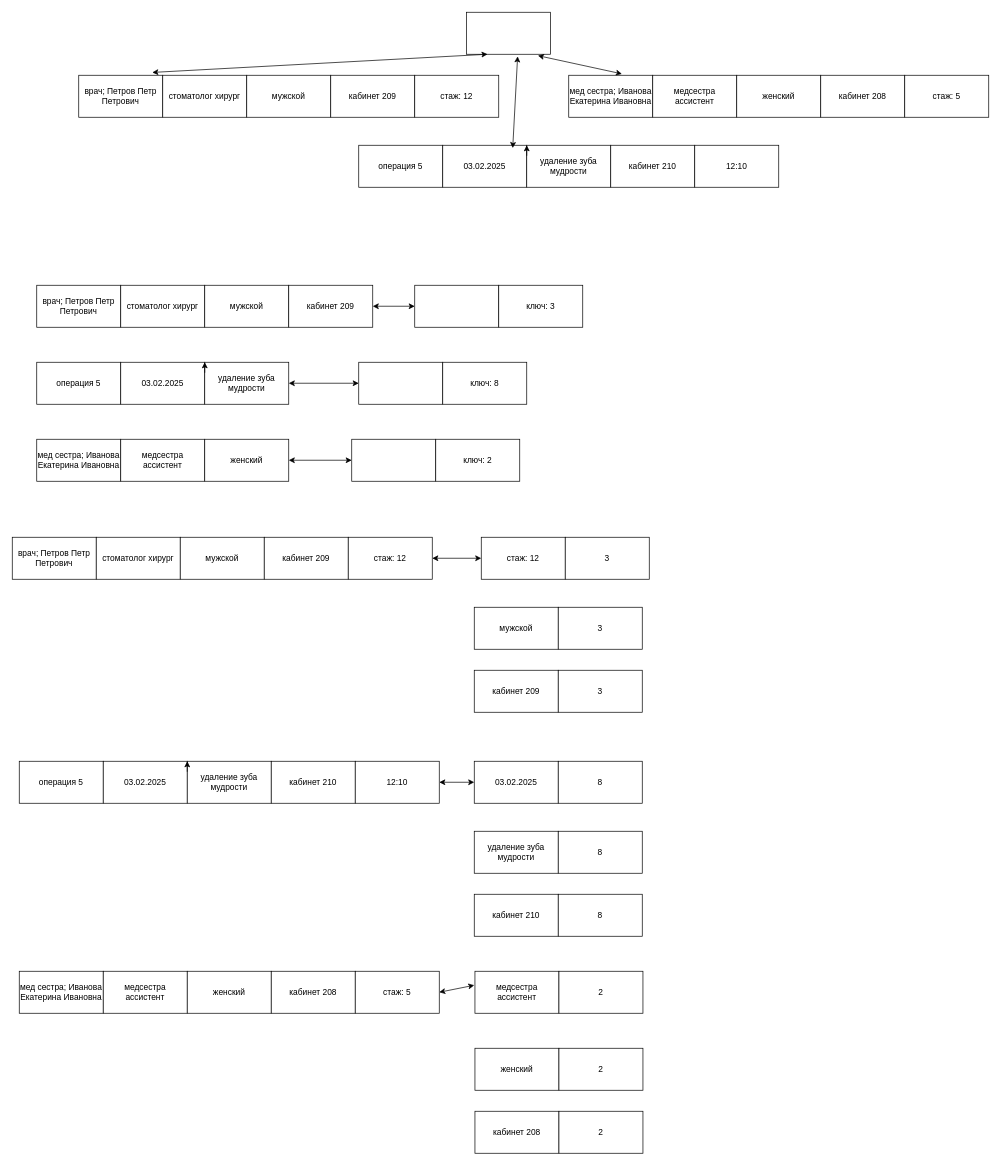
Some shapes in this 1001 by 1166 pixel diagram are drawn without their labels. Each missing label, with the box of its shape:
адрес: 453565: (414, 285, 499, 327)
адрес: 492756: (351, 439, 436, 481)
адрес: 764533: (358, 362, 443, 404)
стоматология бд: (466, 12, 551, 54)
